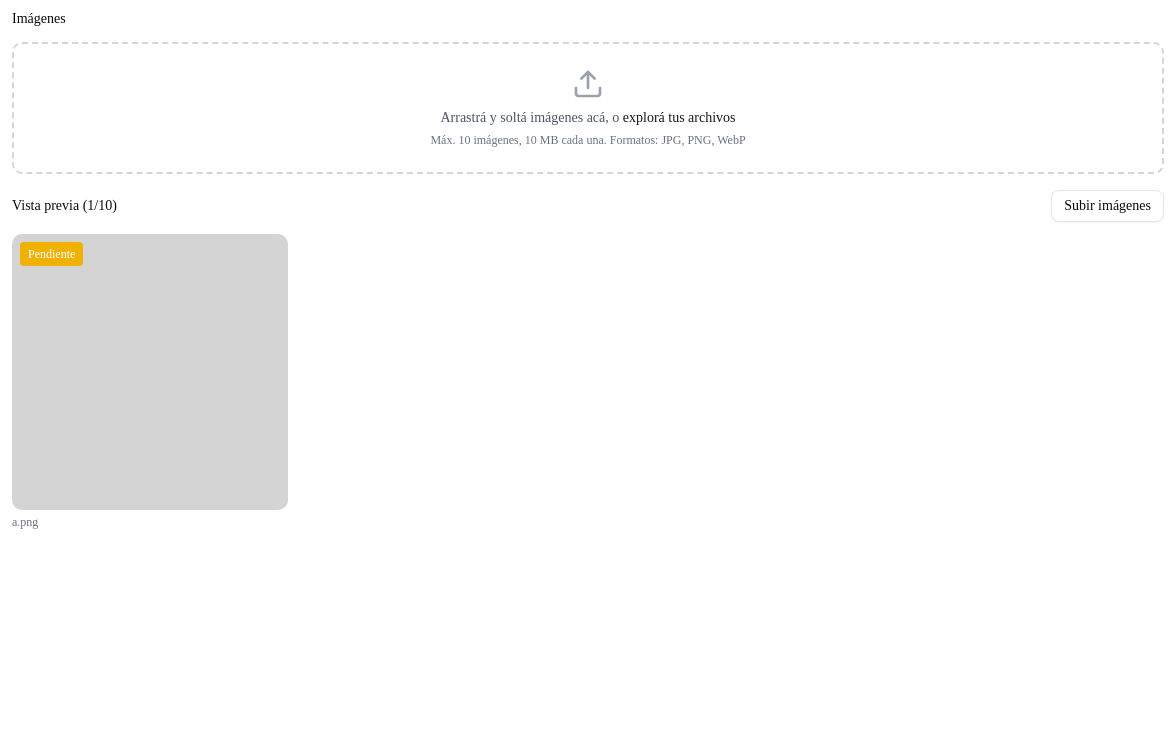
ImageUploadComponent: uploading to Cloudinary › shows an error when the request itself throws
This screenshot has width=1176, height=732.
Earlier steps of the test are not shown.
Click the button "Subir imágenes". click: (1108, 206)
box: [1051,190,1164,222]
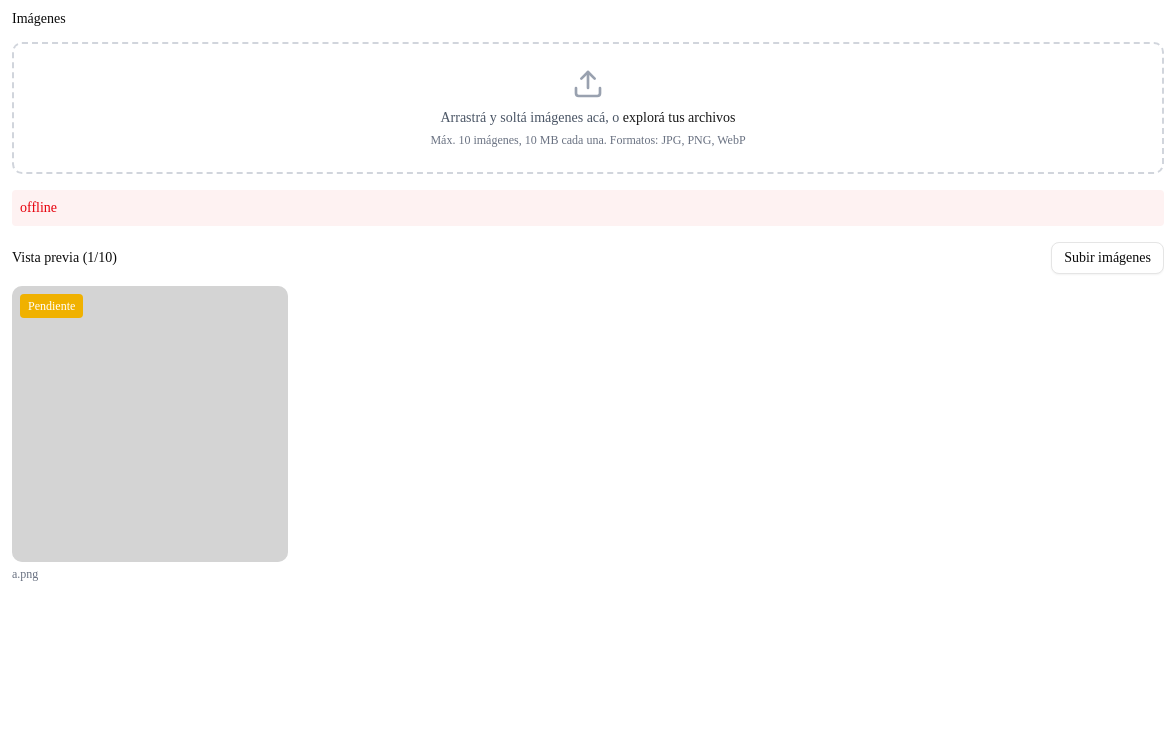
Check: the text "offline" is shown, box [12,190,1164,226]
